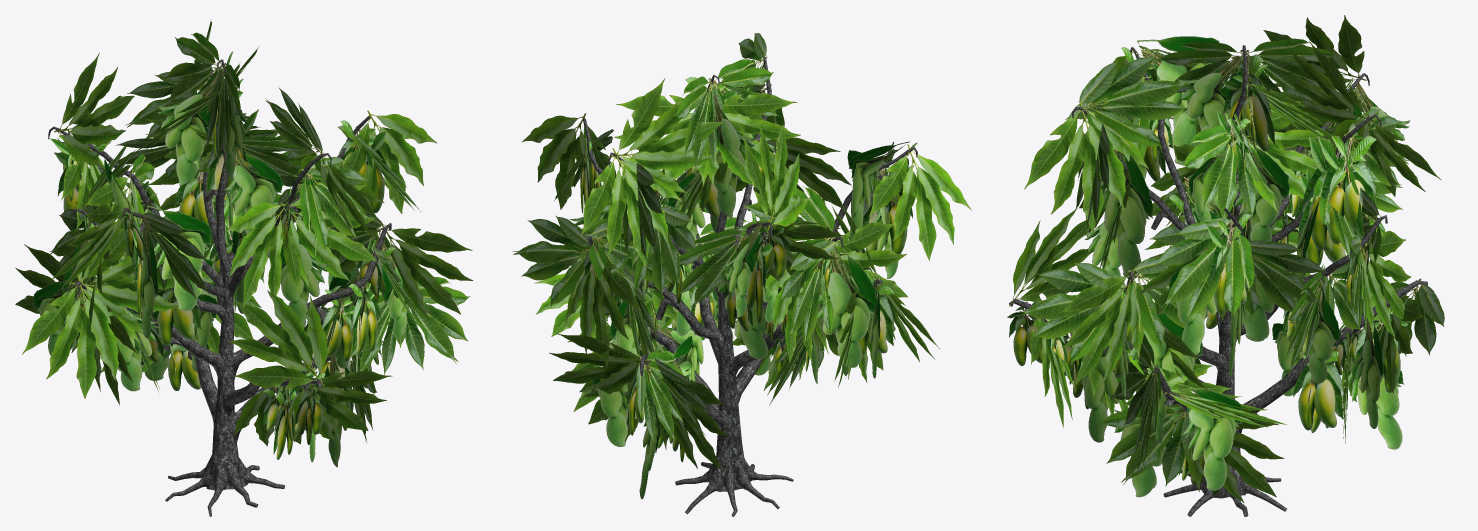
Rendered from realmangotree.glb.
3 views of the same model, side by side, from view 1: azimuth 30°, elevation 25°; view 2: azimuth 150°, elevation 25°; view 3: azimuth 270°, elevation 25° (orthographic). The views are drawn at different scales.
Parts seen in each view (by area): view 1: Mang_Tree_01_Mango_Leaf_01_Mat_0, Mang_Tree_01_Mango_Fruit_01_Mat_0, Mang_Tree_01_Mango_Leaf_02_Mat_0, Mang_Tree_01_Mango_Bark_BC02_Mat_0; view 2: Mang_Tree_01_Mango_Leaf_01_Mat_0, Mang_Tree_01_Mango_Leaf_02_Mat_0, Mang_Tree_01_Mango_Fruit_01_Mat_0, Mang_Tree_01_Mango_Bark_BC02_Mat_0; view 3: Mang_Tree_01_Mango_Fruit_01_Mat_0, Mang_Tree_01_Mango_Leaf_02_Mat_0, Mang_Tree_01_Mango_Leaf_01_Mat_0, Mang_Tree_01_Mango_Bark_BC02_Mat_0.
Part boxes in pixels (x1,y1,x2,y2): Mang_Tree_01_Mango_Leaf_01_Mat_0: [15, 19, 472, 446]; Mang_Tree_01_Mango_Fruit_01_Mat_0: [32, 51, 407, 467]; Mang_Tree_01_Mango_Leaf_02_Mat_0: [49, 32, 470, 443]; Mang_Tree_01_Mango_Bark_BC02_Mat_0: [48, 59, 391, 516]; Mang_Tree_01_Mango_Leaf_01_Mat_0: [522, 55, 971, 469]; Mang_Tree_01_Mango_Leaf_02_Mat_0: [512, 33, 894, 443]; Mang_Tree_01_Mango_Fruit_01_Mat_0: [569, 77, 917, 499]; Mang_Tree_01_Mango_Bark_BC02_Mat_0: [583, 56, 917, 516]; Mang_Tree_01_Mango_Fruit_01_Mat_0: [1007, 36, 1409, 497]; Mang_Tree_01_Mango_Leaf_02_Mat_0: [1018, 38, 1444, 486]; Mang_Tree_01_Mango_Leaf_01_Mat_0: [1009, 15, 1441, 502]; Mang_Tree_01_Mango_Bark_BC02_Mat_0: [1009, 45, 1427, 516].
Size of the model in its own units: 6.96 by 7 by 6.04.
Materials: 4 (4 with a texture image).
